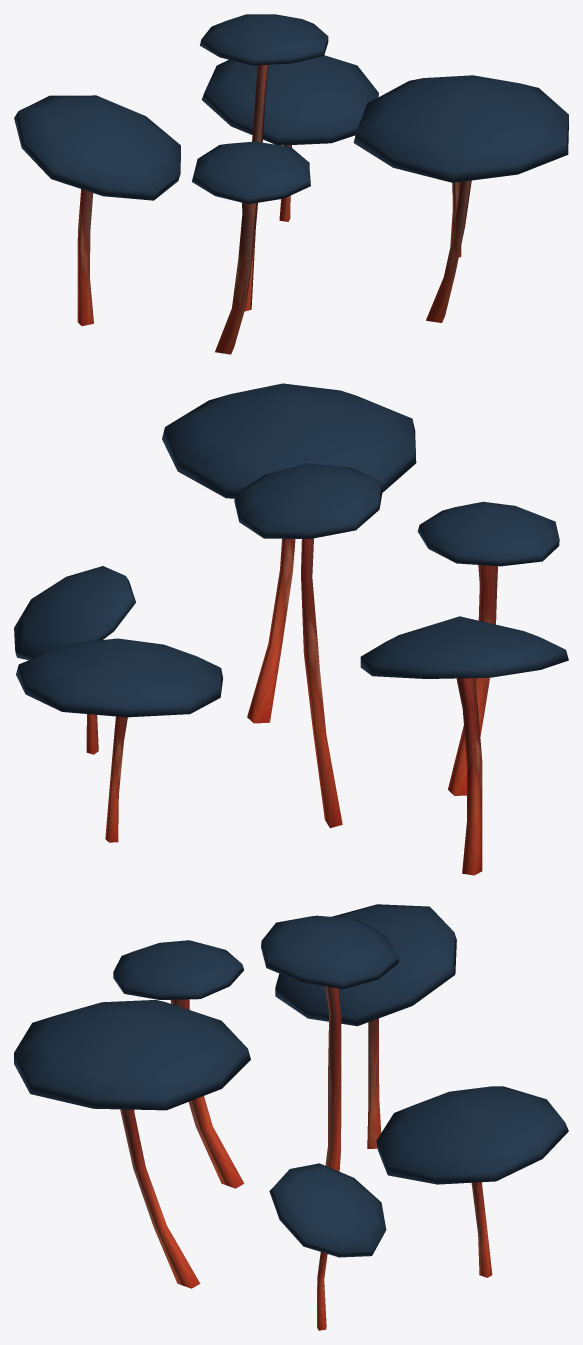
File: SM_Mushrooms_01.fbx
The picture shows the model from 3 angles, top to bottom: view 1: azimuth 30°, elevation 25°; view 2: azimuth 150°, elevation 25°; view 3: azimuth 270°, elevation 25°; orthographic projection. The views are drawn at different scales.
Visible parts, largest first — view 1: Mushroom; view 2: Mushroom; view 3: Mushroom.
Part boxes in pixels (x1,y1,x2,y2): Mushroom: [14, 14, 568, 354]; Mushroom: [14, 383, 568, 875]; Mushroom: [14, 904, 568, 1330].
Size of the model in its own units: 118 by 70.61 by 113.
